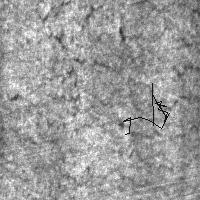crazing: (35, 1, 132, 85), (123, 83, 169, 134)
